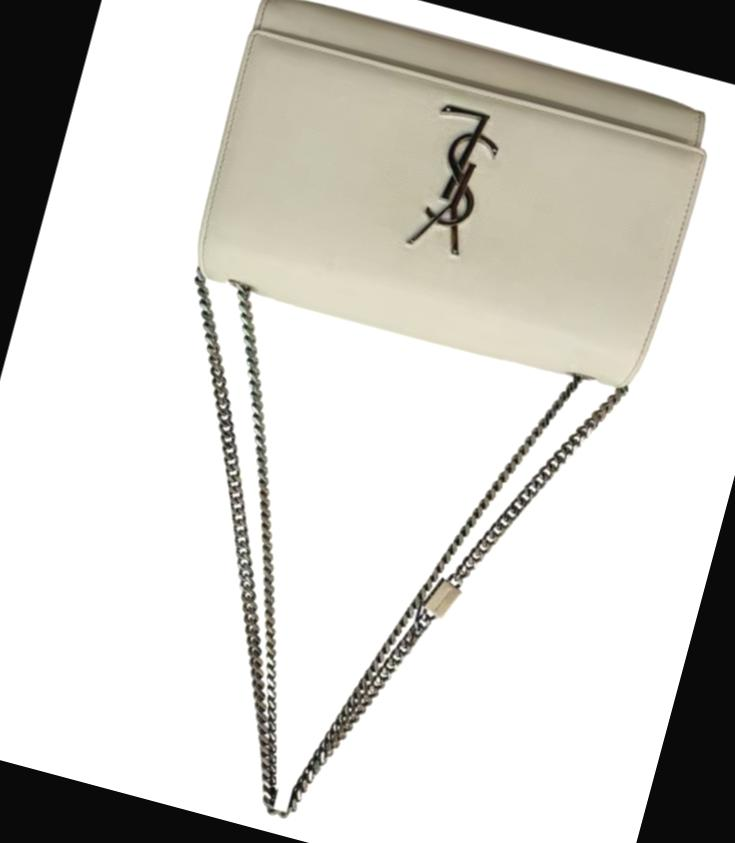YVES-SAINT-LAURENT: (404, 99, 506, 260)
